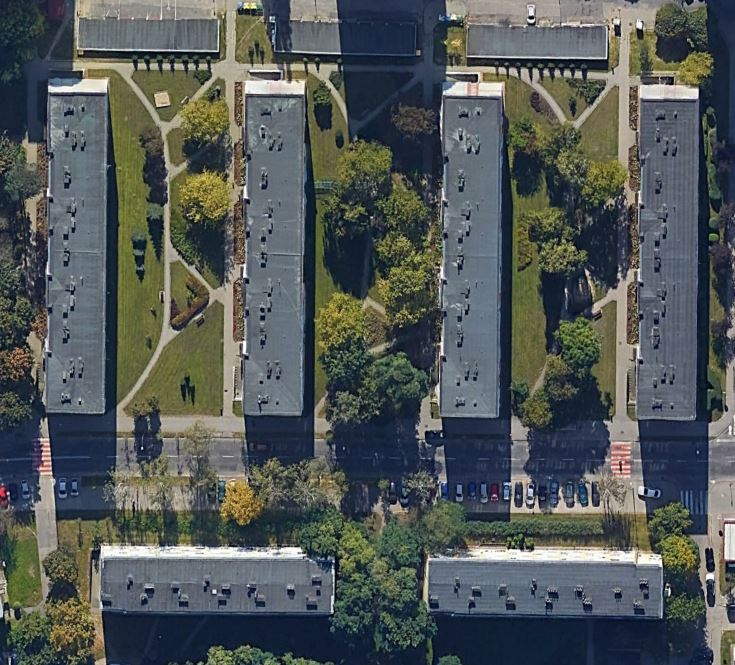block of flats: (627, 76, 712, 428), (429, 77, 514, 429), (234, 72, 319, 424), (34, 71, 119, 423), (97, 539, 342, 621), (418, 544, 673, 617)
garage: (460, 18, 612, 62), (76, 13, 223, 56), (272, 17, 425, 58)
